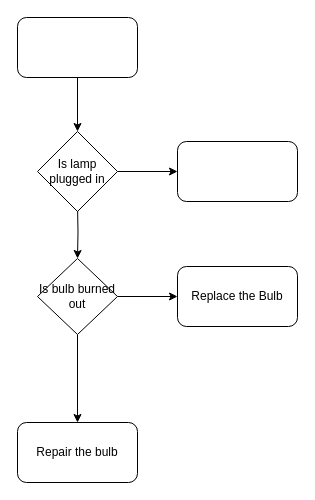
Some shapes in this 315 by 500 pixel diagram are drawn without their labels. The centre of each missing label's shape, as x and y in pixels:
Lamp is not working: pixel 77 47
Plug in the lamp: pixel 237 171
